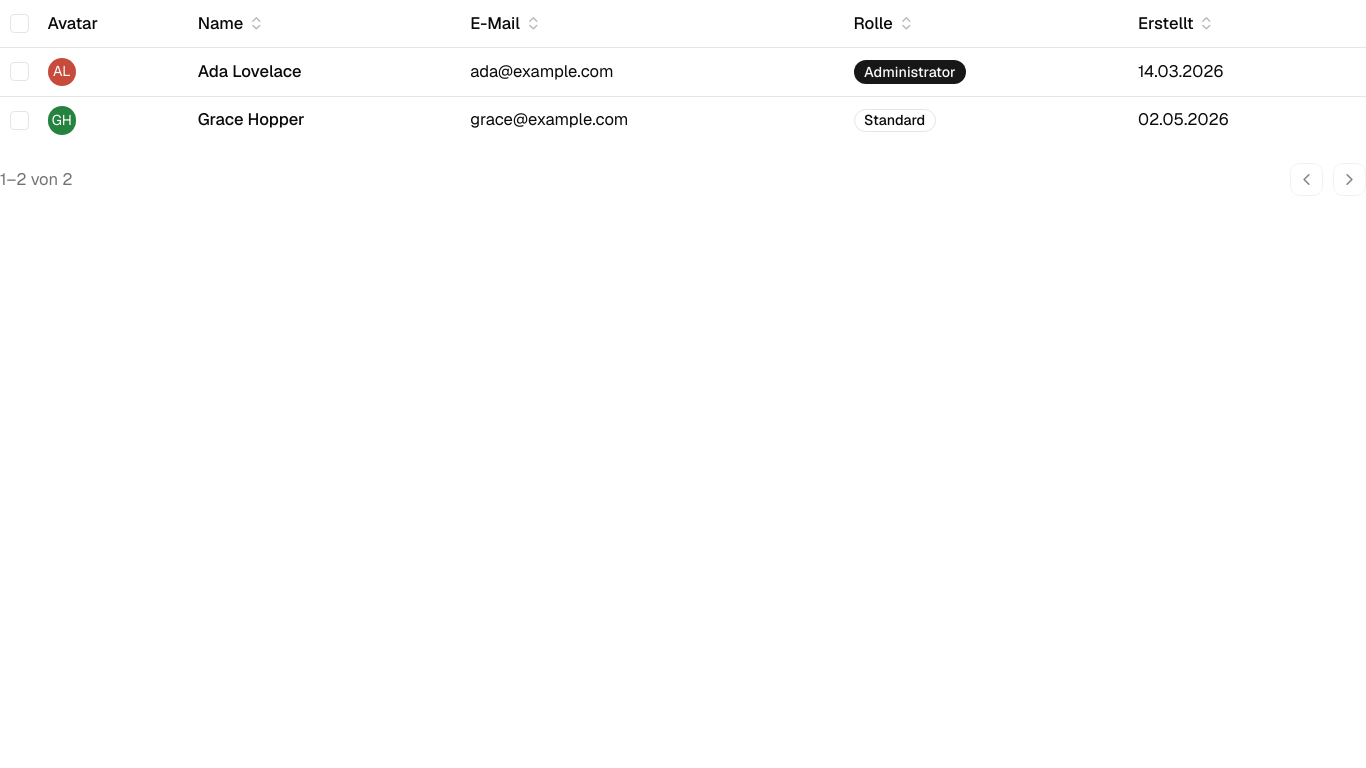
Test: <UsersTable> › deletes the selection, refreshes, and reports how many went
Click the checkbox named "Diese Zeile auswählen" next to "AL".
click(19, 72)  # box [10,62,28,81]
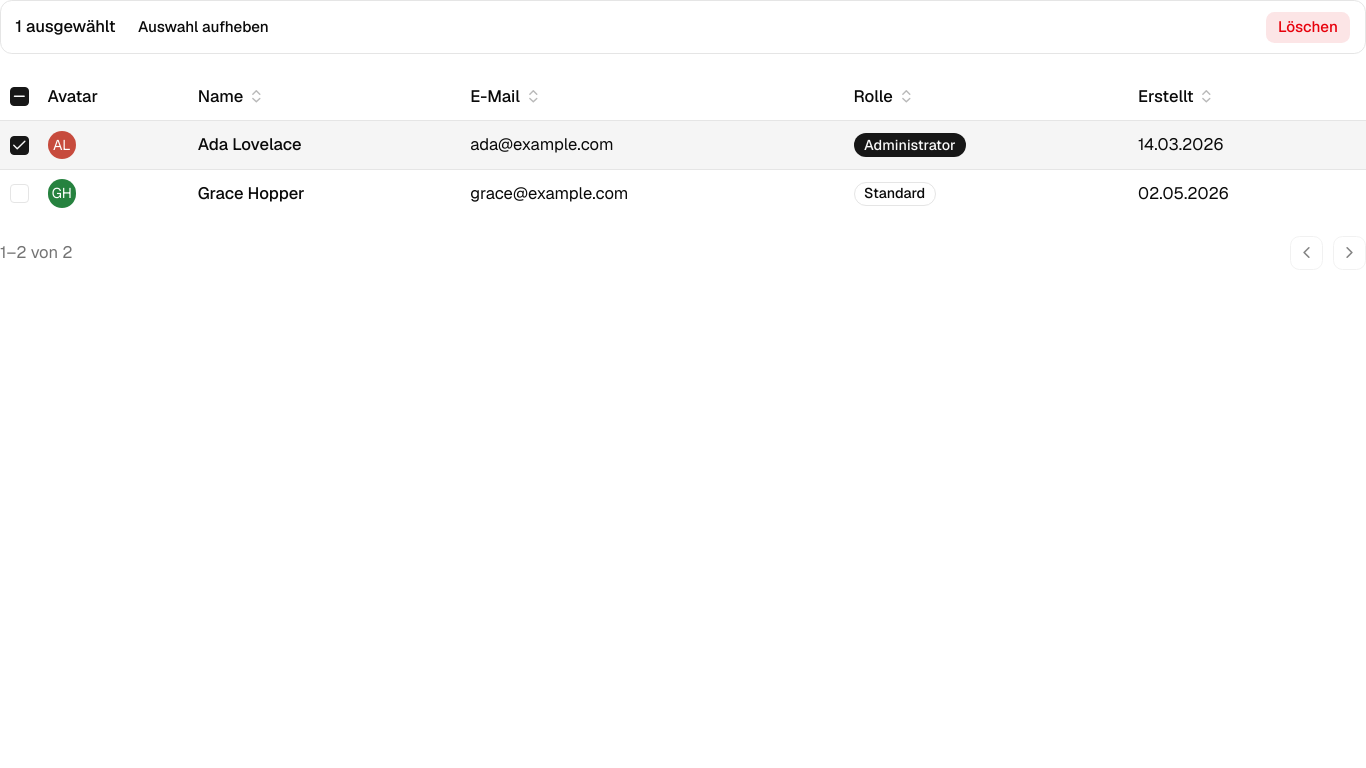
Click the button "Löschen".
click(1308, 27)  # box [1265,10,1351,44]
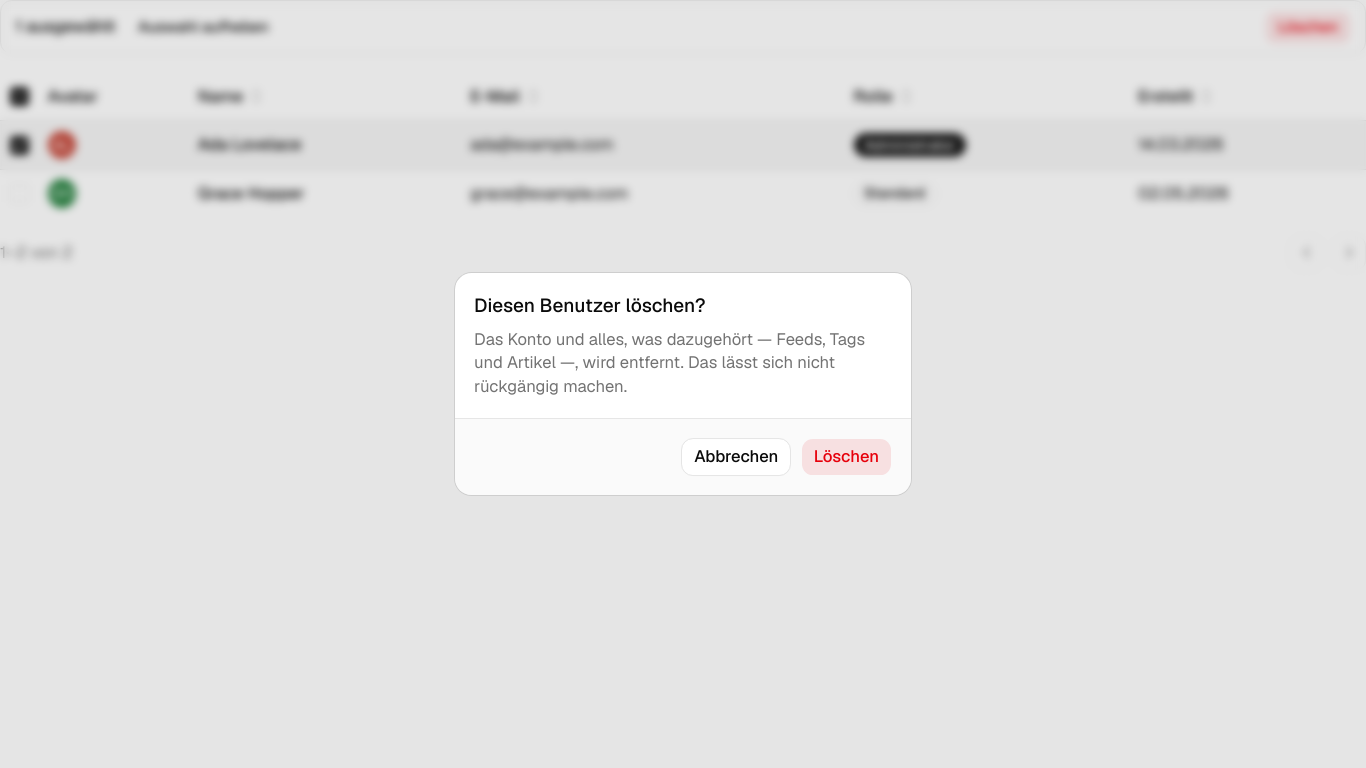
Click the button "Löschen".
click(846, 457)  # box [801,438,892,476]
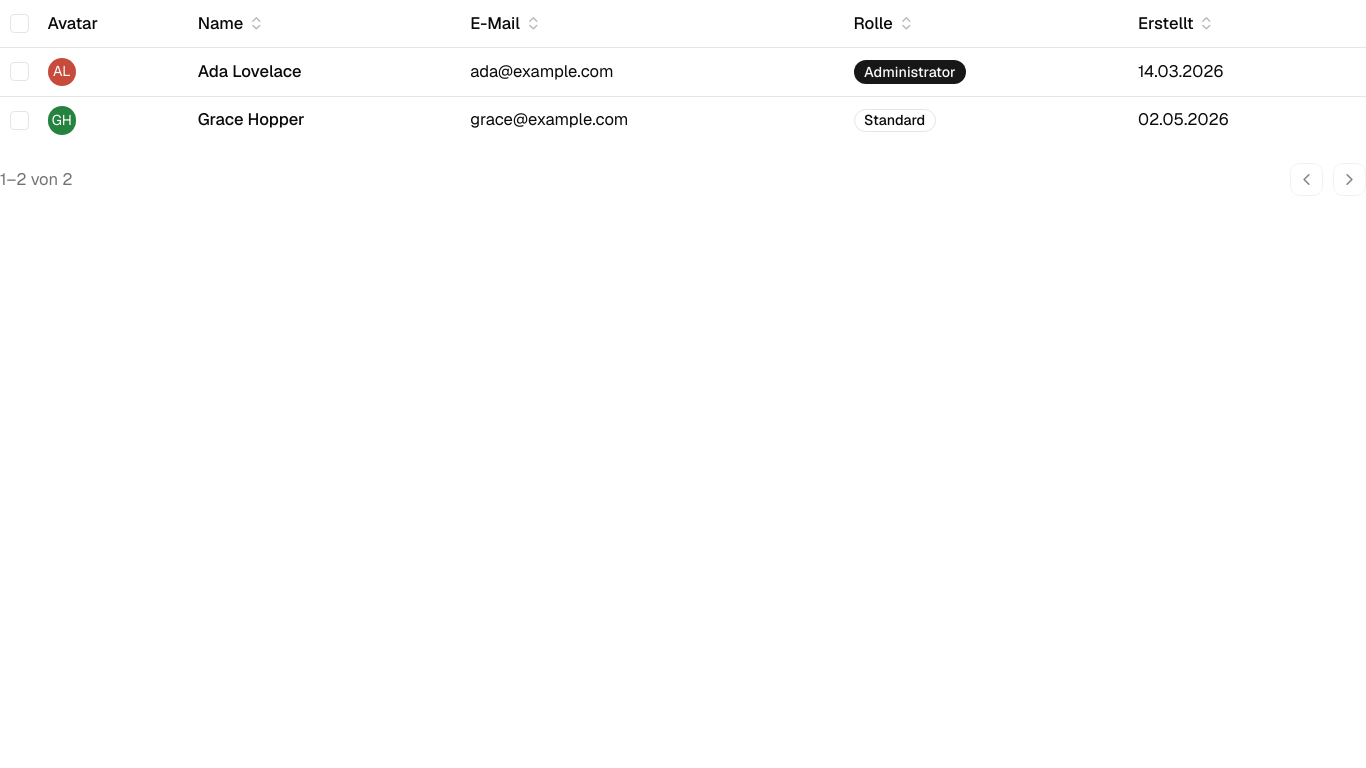
Now the heading "Diesen Benutzer löschen?" is gone
